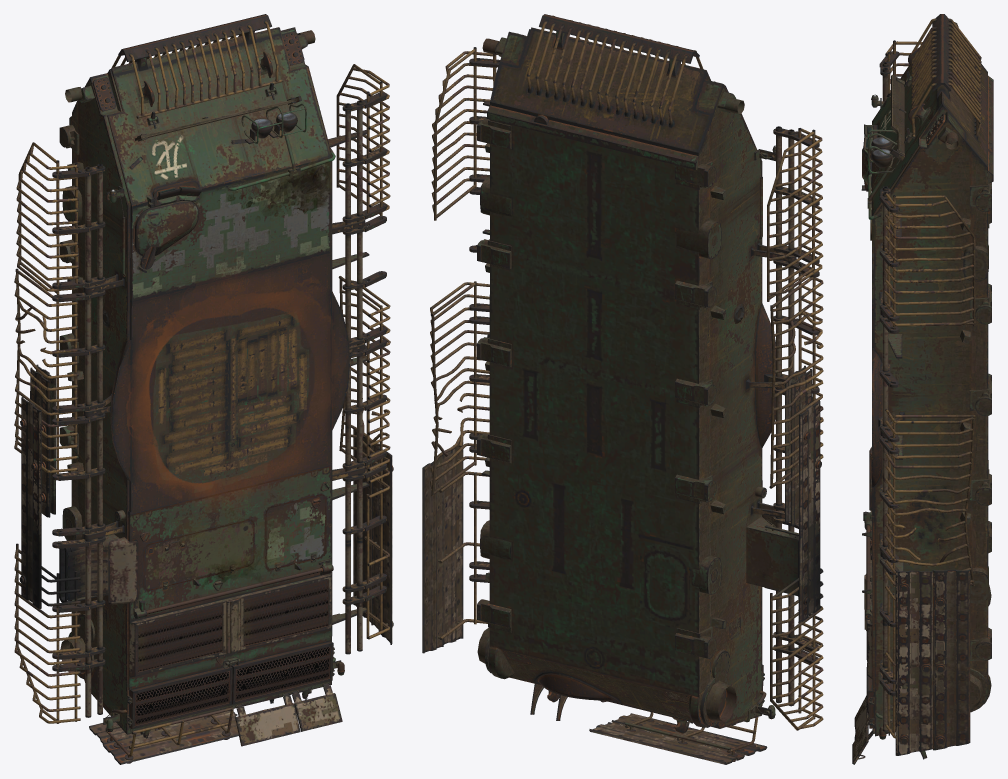
Rendered from Hull_02.glb.
The picture shows the model from 3 angles, left to right: view 1: azimuth 30°, elevation 25°; view 2: azimuth 150°, elevation 25°; view 3: azimuth 270°, elevation 25°; orthographic projection. The views are drawn at different scales.
Parts seen in each view (by area): view 1: set_0_group_0; view 2: set_0_group_0; view 3: set_0_group_0.
Boxes of the visible parts, x1,y1,x2,y2 form: set_0_group_0: (14, 14, 393, 764); set_0_group_0: (422, 14, 823, 764); set_0_group_0: (852, 14, 993, 764).
Bounding box in the file's own units: 3.25 × 5.99 × 1.14.
Materials: 2 (2 with a texture image).
